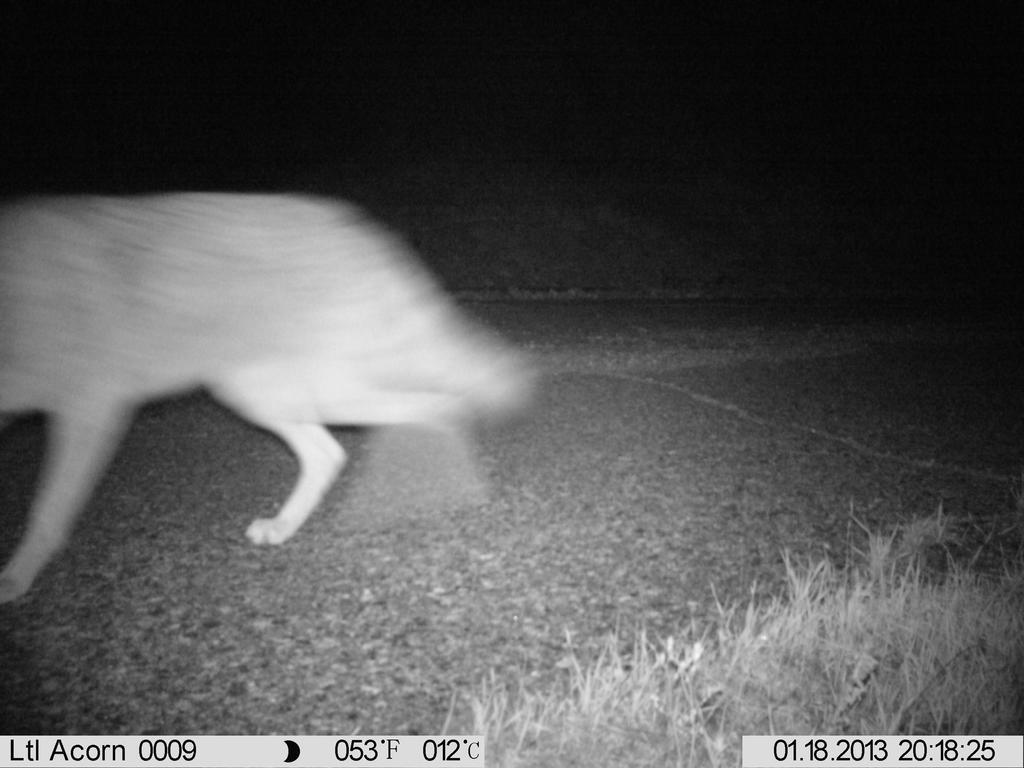coyote: (3, 181, 537, 607)
